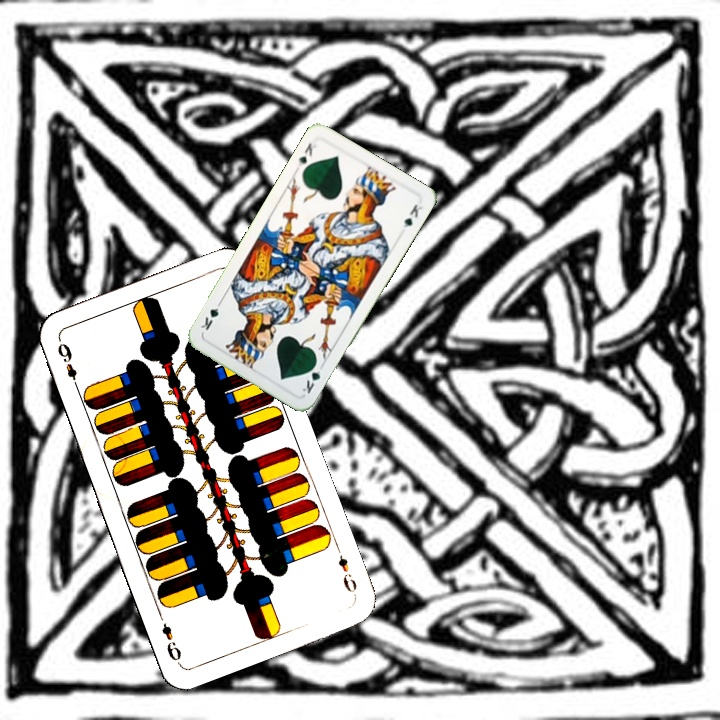E9: (332, 541, 360, 598), (53, 339, 82, 393)
GK: (298, 358, 326, 397), (292, 138, 319, 173)
